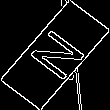N_SE: (20, 23, 90, 87)
